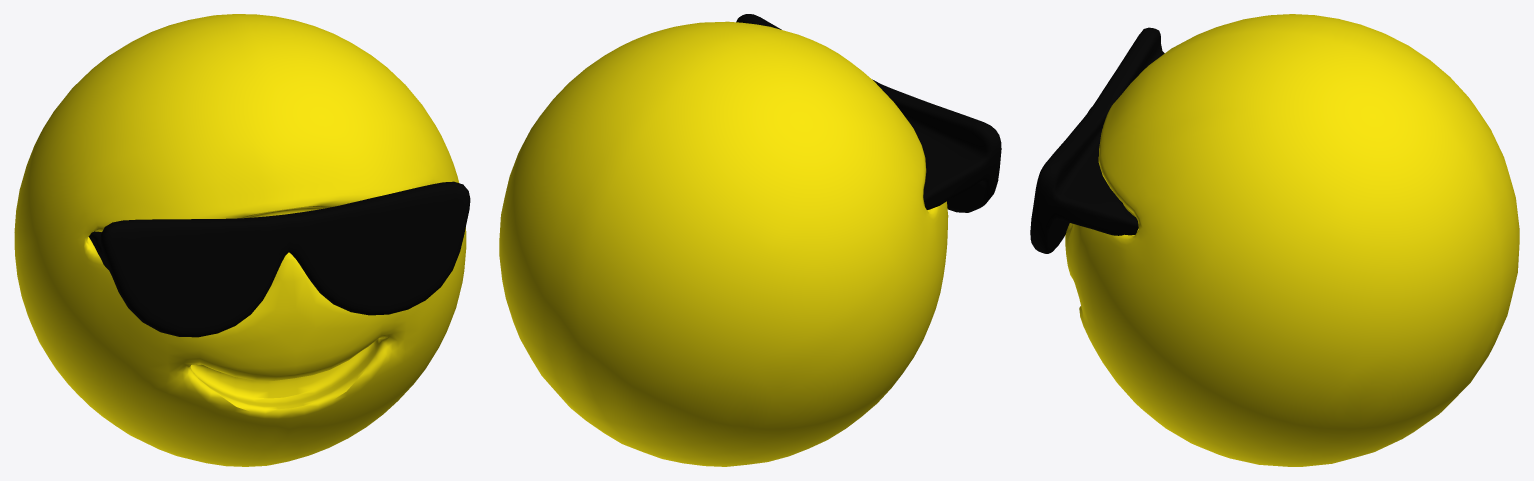
Rendered from sunglases.dae.
The picture shows the model from 3 angles, left to right: view 1: azimuth 30°, elevation 25°; view 2: azimuth 150°, elevation 25°; view 3: azimuth 270°, elevation 25°; orthographic projection.
Visible parts, largest first — view 1: Group43228, Group17483; view 2: Group43228, Group17483; view 3: Group43228, Group17483.
Part boxes in pixels (x1,y1,x2,y2): Group43228: [14, 14, 466, 466]; Group17483: [88, 181, 470, 337]; Group43228: [499, 21, 948, 466]; Group17483: [736, 14, 1001, 212]; Group43228: [1065, 14, 1519, 466]; Group17483: [1030, 27, 1164, 253].
Bounding box in the file's own units: 23.07 × 22.32 × 24.06.
2 materials, 2 textured.
